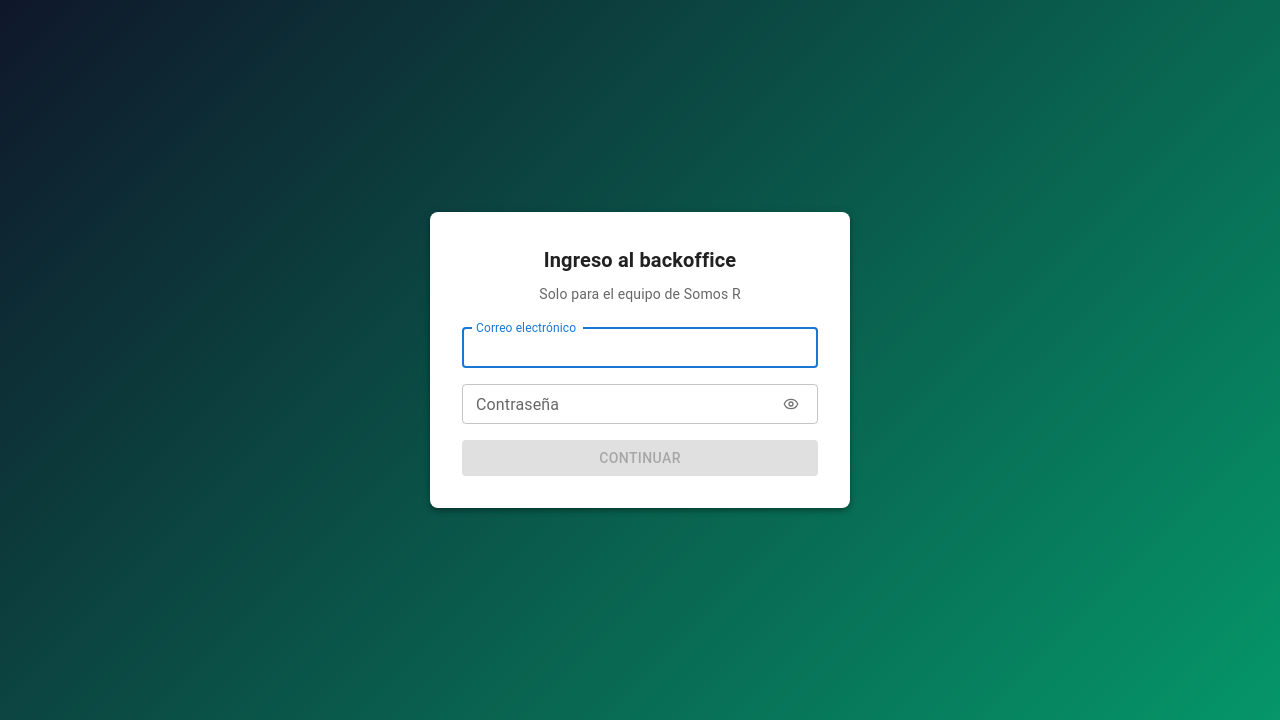
Test case: sign-in with an authenticator code › a wrong password stays on the first step with the translated reason
Type "ana@somosr.co" into the field labelled "Correo electrónico" at (640, 348), box [462,328,818,368]
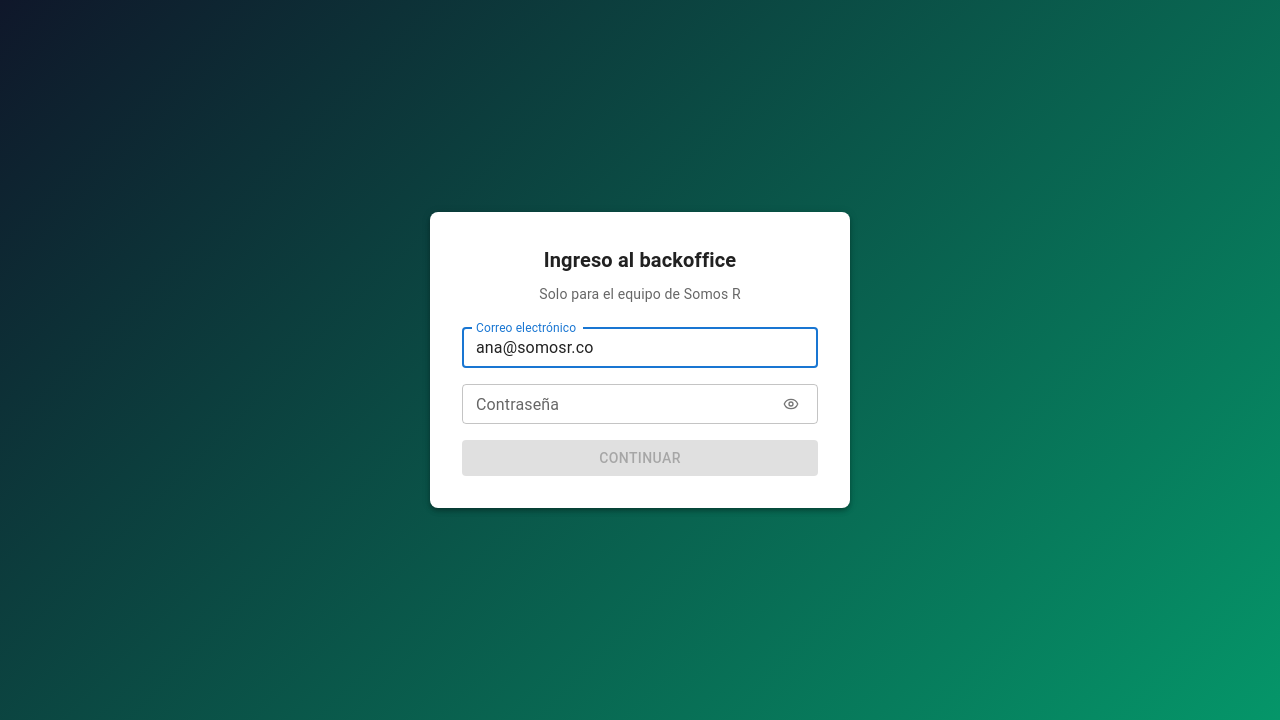
Type "wrong-password-1" into the password field labelled "Contraseña" at (616, 404), box [462,384,770,424]
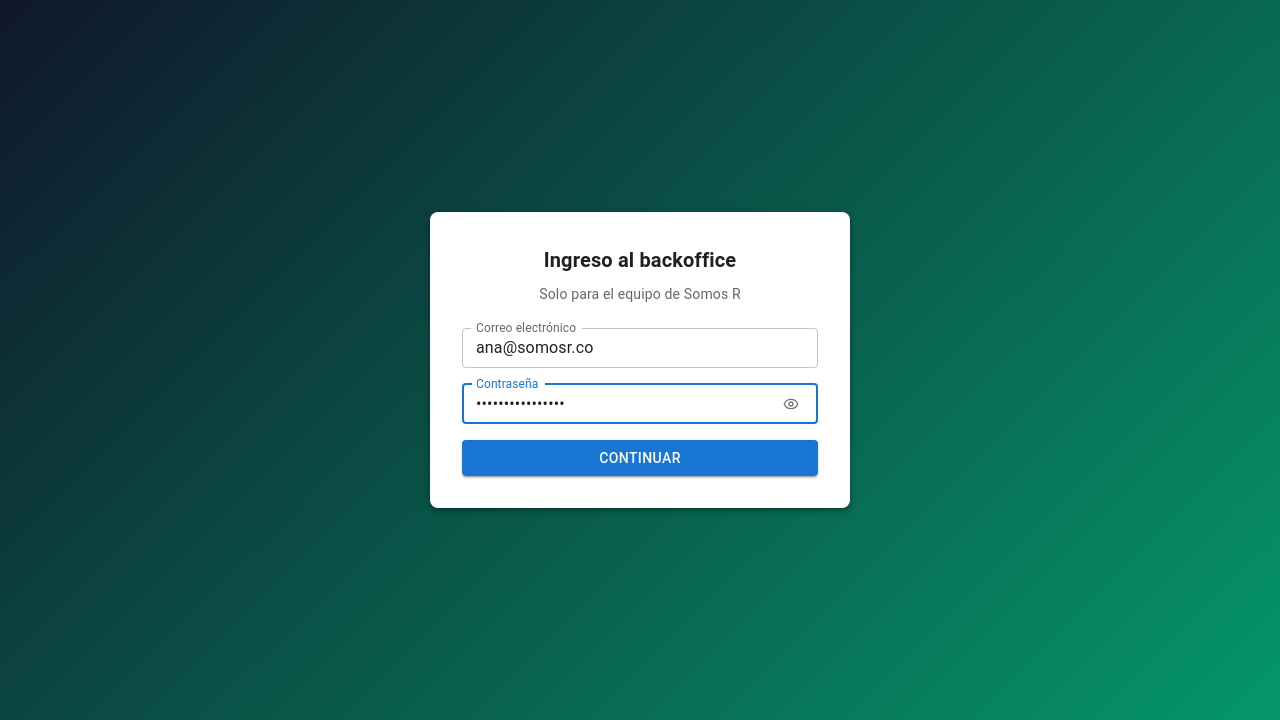
Click the button "Continuar" at (640, 458), box [462,440,818,476]
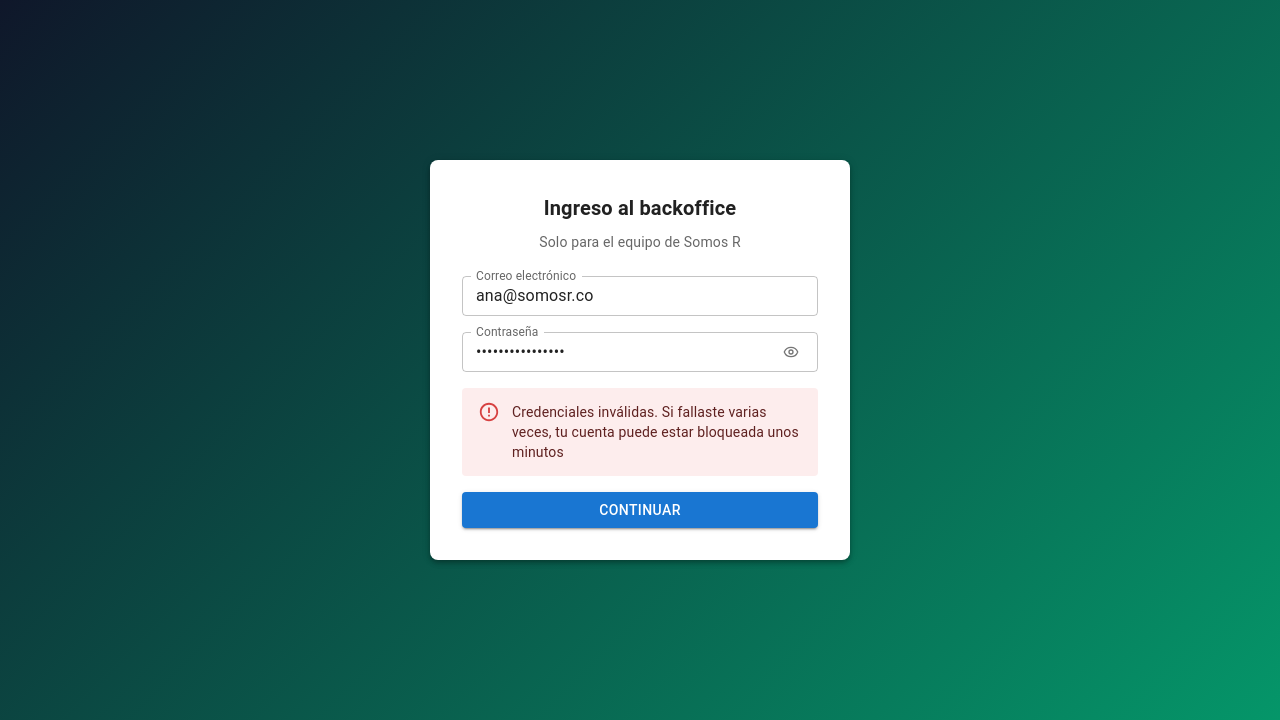
Now the text "Credenciales inválidas. Si fallaste varias veces, tu cuenta puede estar bloqueada unos minutos" is shown, box [512,404,799,460]
